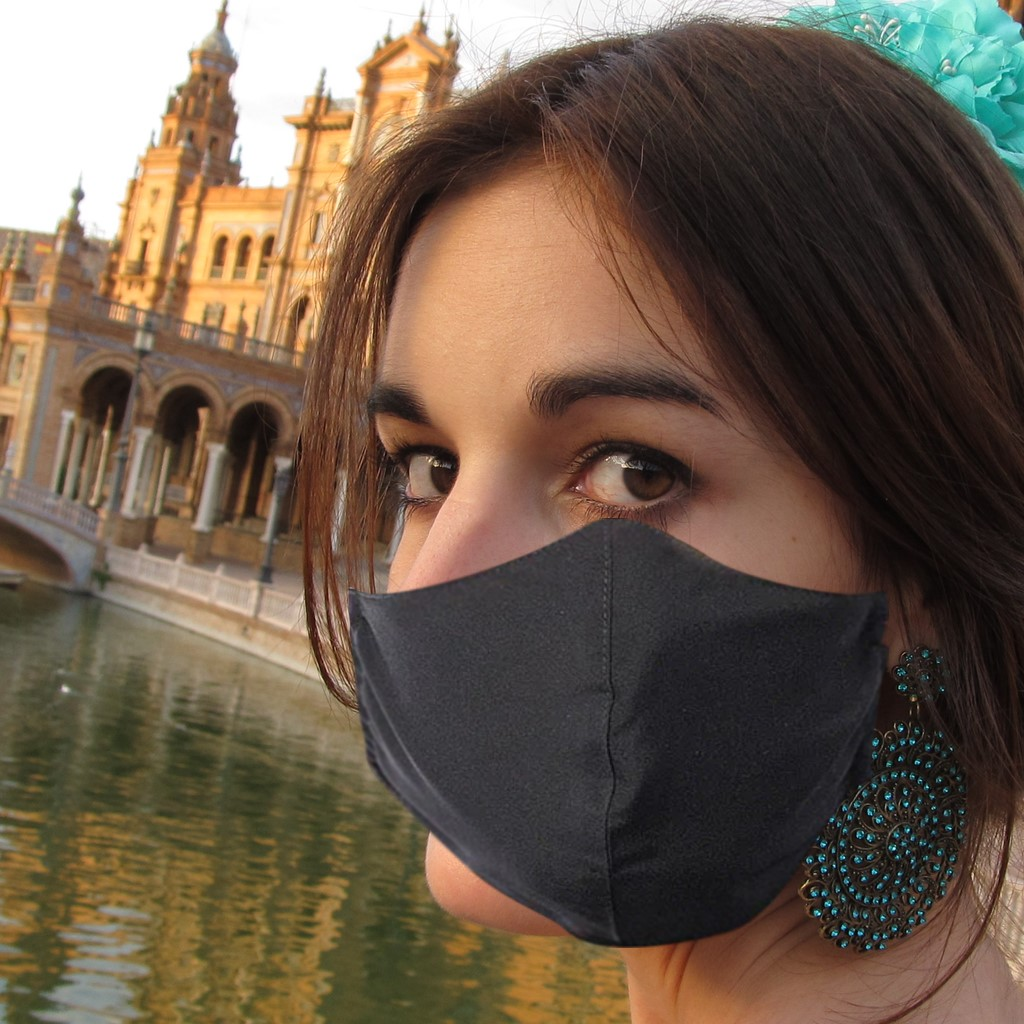con_mascara: (340, 139, 901, 952)
